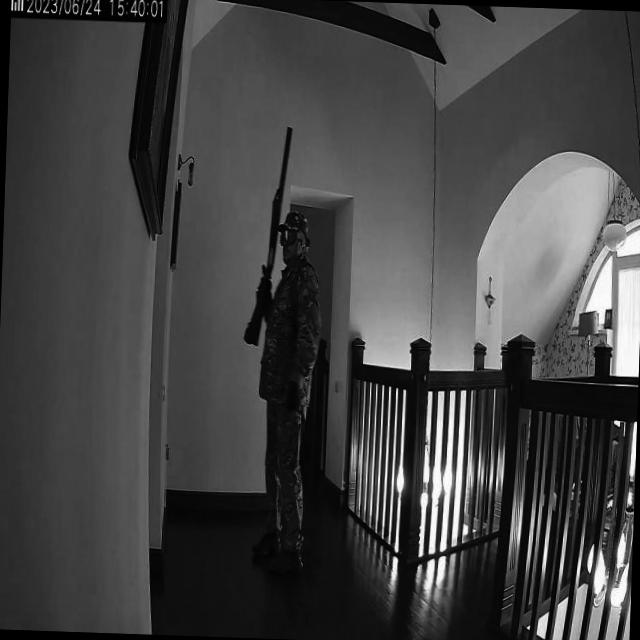gun: (244, 122, 294, 349)
person with a gun: (235, 121, 327, 579)
